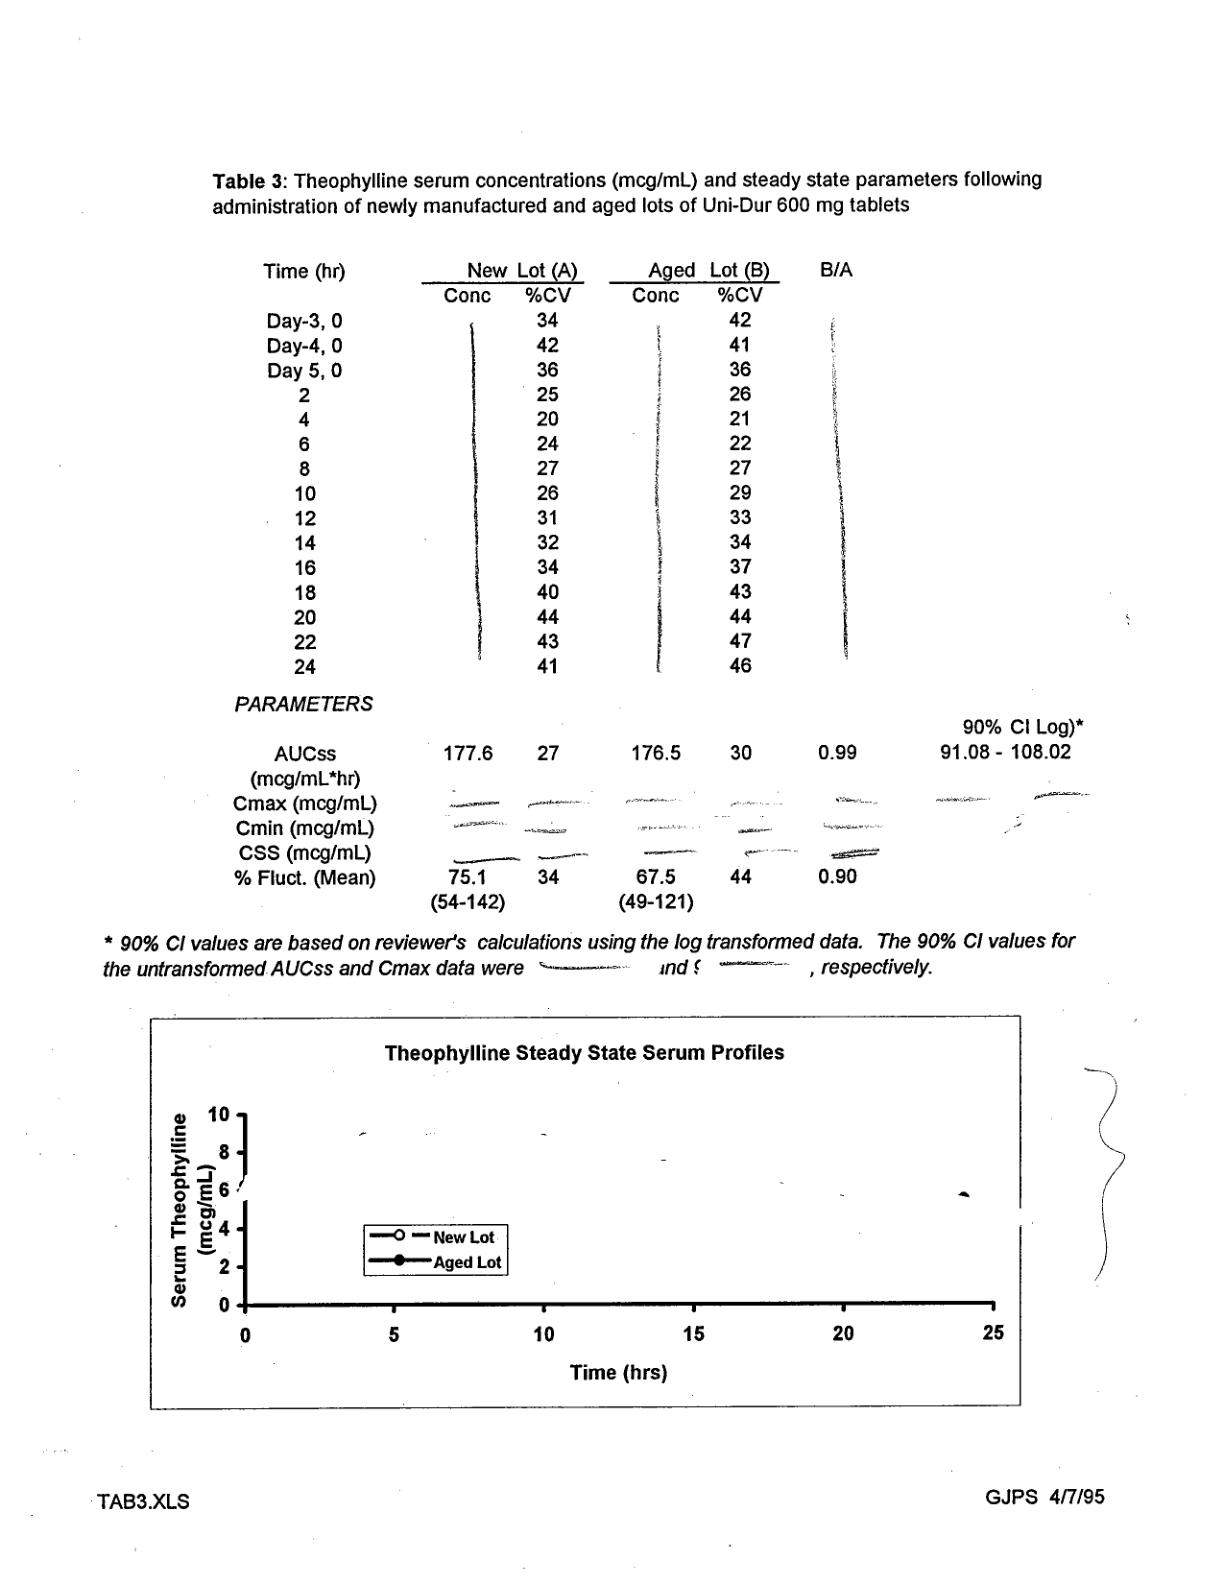nolines: (261, 257, 869, 678), (228, 714, 1086, 921)
